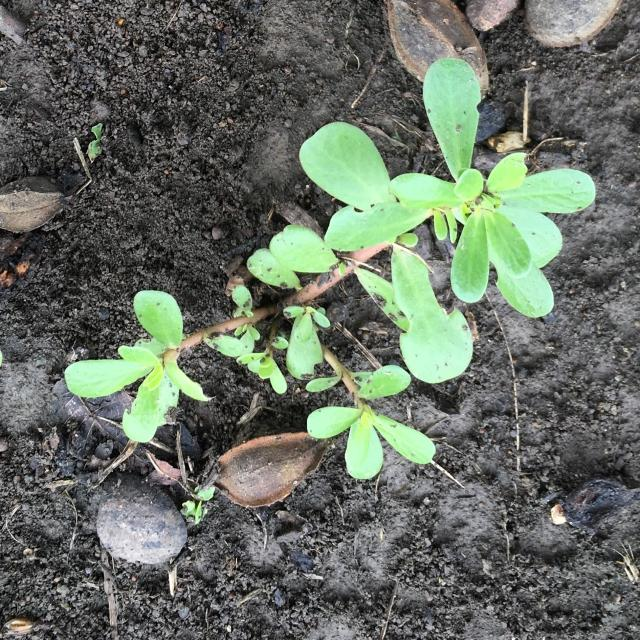Purslane: (64, 58, 596, 478)
